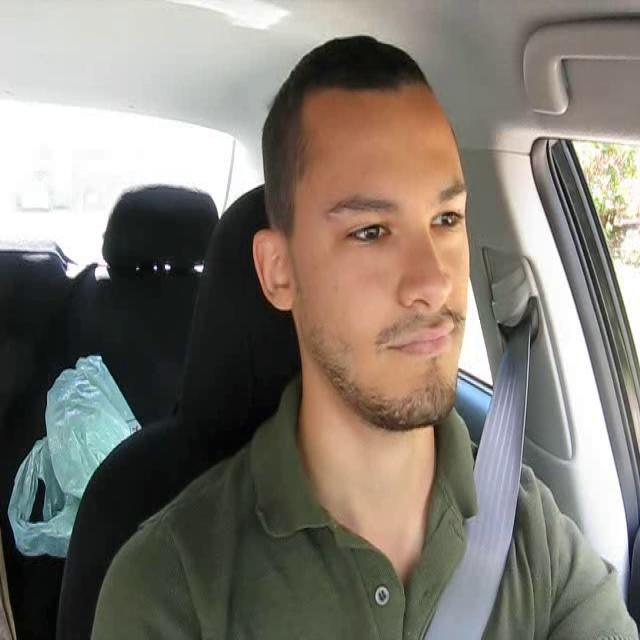close: (382, 320, 462, 362)
